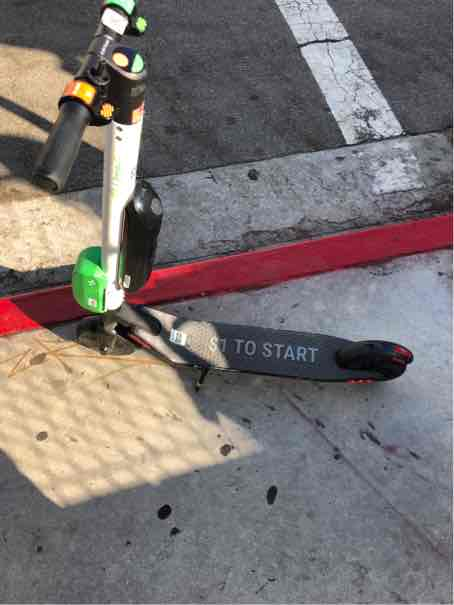scooter: (29, 1, 415, 400)
